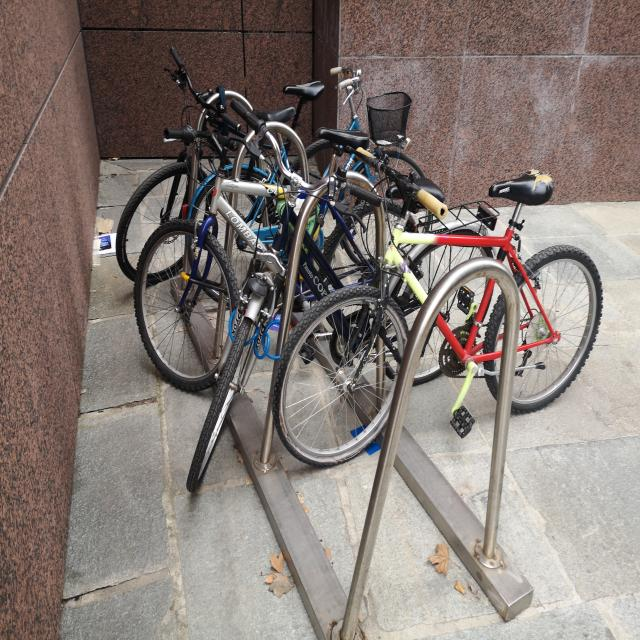Bicycle: (310, 143, 585, 441), (241, 118, 485, 438), (158, 113, 370, 357), (147, 73, 315, 293), (221, 70, 380, 287)
